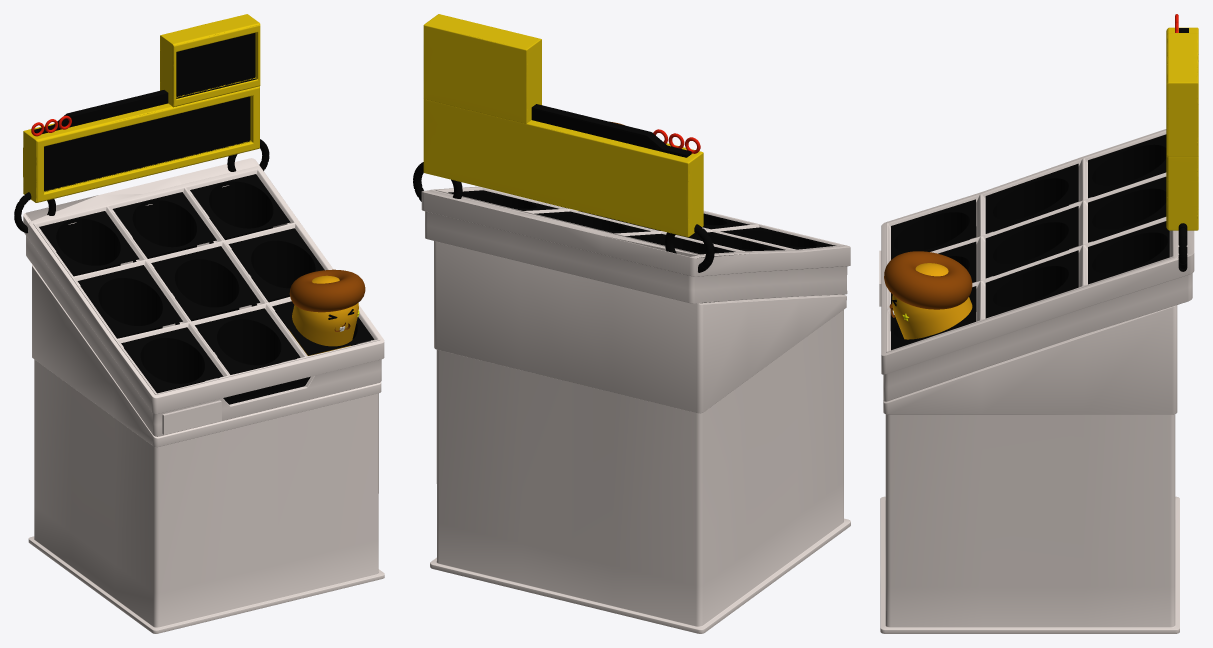
The model's file is Whack a Mole machine.fbx.
3 renders of one model, left to right at view 1: azimuth 30°, elevation 25°; view 2: azimuth 150°, elevation 25°; view 3: azimuth 270°, elevation 25°, orthographic. The views are drawn at different scales.
Visible parts, largest first — view 1: c4d-mesh-11, c4d-mesh-4, c4d-mesh-8, c4d-mesh-11.001, c4d-mesh-5, c4d-mesh-8.001, c4d-mesh-0.001, c4d-mesh-9, c4d-mesh-3, c4d-mesh-6; view 2: c4d-mesh-11, c4d-mesh-8, c4d-mesh-11.001, c4d-mesh-8.001, c4d-mesh-4, c4d-mesh-5, c4d-mesh-9, c4d-mesh-6; view 3: c4d-mesh-11, c4d-mesh-4, c4d-mesh-11.001, c4d-mesh-5, c4d-mesh-0.001, c4d-mesh-8.001, c4d-mesh-8, c4d-mesh-6.
Part boxes in pixels (x1,y1,x2,y2): c4d-mesh-11: (23, 158, 384, 593); c4d-mesh-4: (39, 174, 374, 393); c4d-mesh-8: (23, 86, 259, 202); c4d-mesh-11.001: (28, 505, 384, 633); c4d-mesh-5: (33, 168, 379, 394); c4d-mesh-8.001: (160, 14, 260, 107); c4d-mesh-0.001: (288, 269, 365, 355); c4d-mesh-9: (34, 90, 168, 133); c4d-mesh-3: (162, 400, 221, 434); c4d-mesh-6: (14, 139, 269, 233); c4d-mesh-11: (421, 186, 850, 586); c4d-mesh-8: (423, 99, 703, 237); c4d-mesh-11.001: (430, 482, 850, 633); c4d-mesh-8.001: (423, 14, 541, 123); c4d-mesh-4: (448, 190, 835, 254); c4d-mesh-5: (435, 187, 845, 256); c4d-mesh-9: (531, 104, 691, 157); c4d-mesh-6: (413, 162, 714, 272); c4d-mesh-11: (881, 129, 1194, 586); c4d-mesh-4: (890, 134, 1169, 350); c4d-mesh-11.001: (880, 496, 1179, 633); c4d-mesh-5: (886, 130, 1174, 352); c4d-mesh-0.001: (884, 251, 972, 339); c4d-mesh-8.001: (1166, 33, 1198, 156); c4d-mesh-8: (1166, 27, 1198, 230); c4d-mesh-6: (1178, 223, 1187, 271).
Size of the model in its own units: 3440 by 6029 by 3176.
